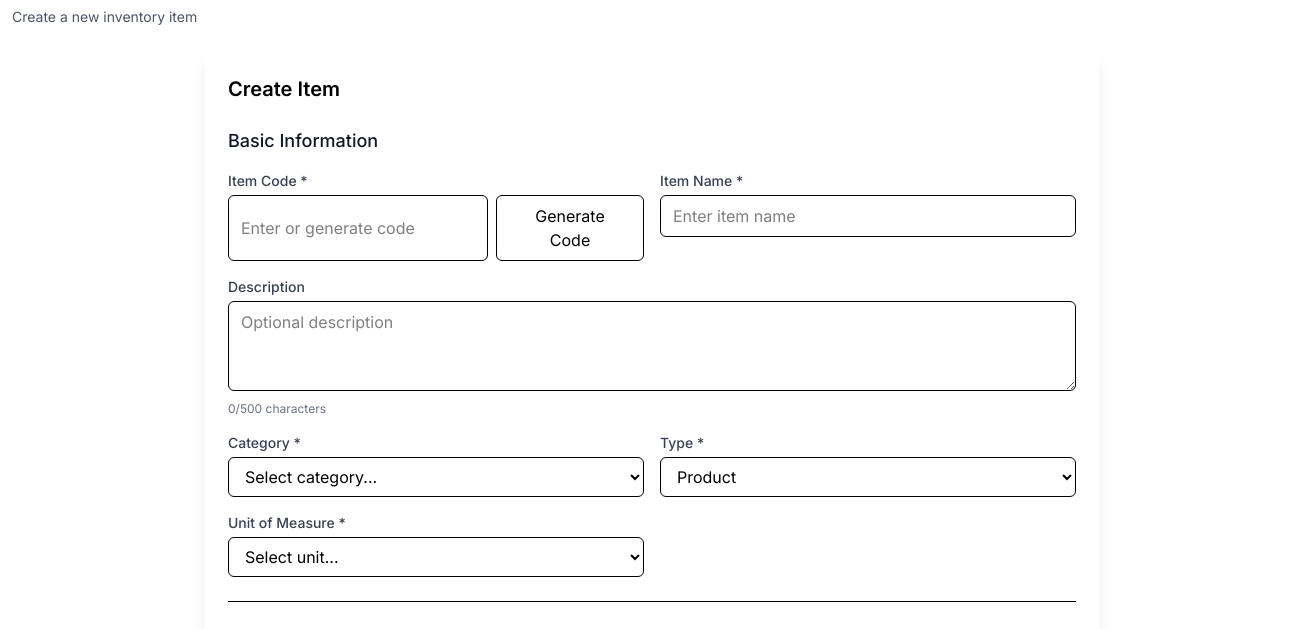
Test case: New Item Page › 🔴 RED: Form integration tests › should disable inventory settings for service items
Select "Service" in the dropdown labelled "Type *": coordinates (868, 477) [660,457,1076,497]
(page scrolled)
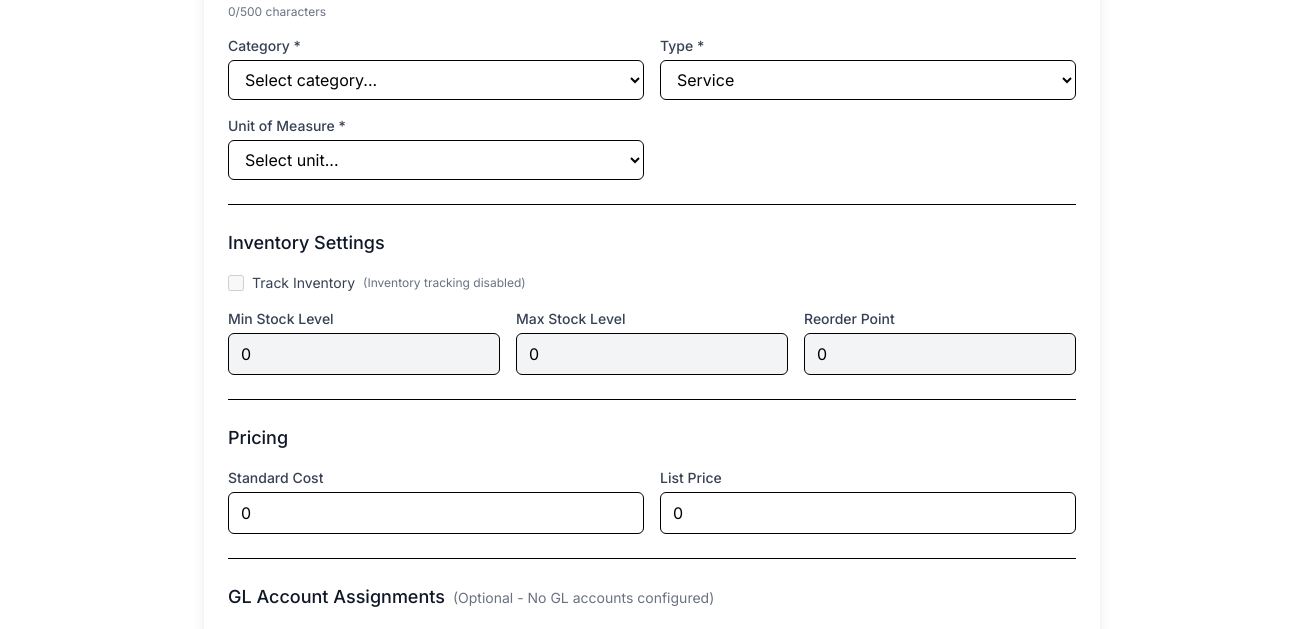
Expected: the checkbox labelled "Track Inventory" is disabled, [228,275,244,291]
